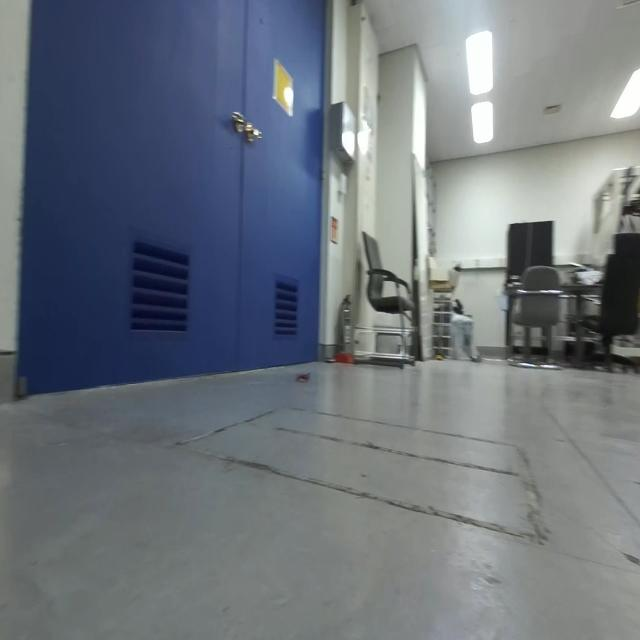crazyflie: (291, 366, 315, 389)
